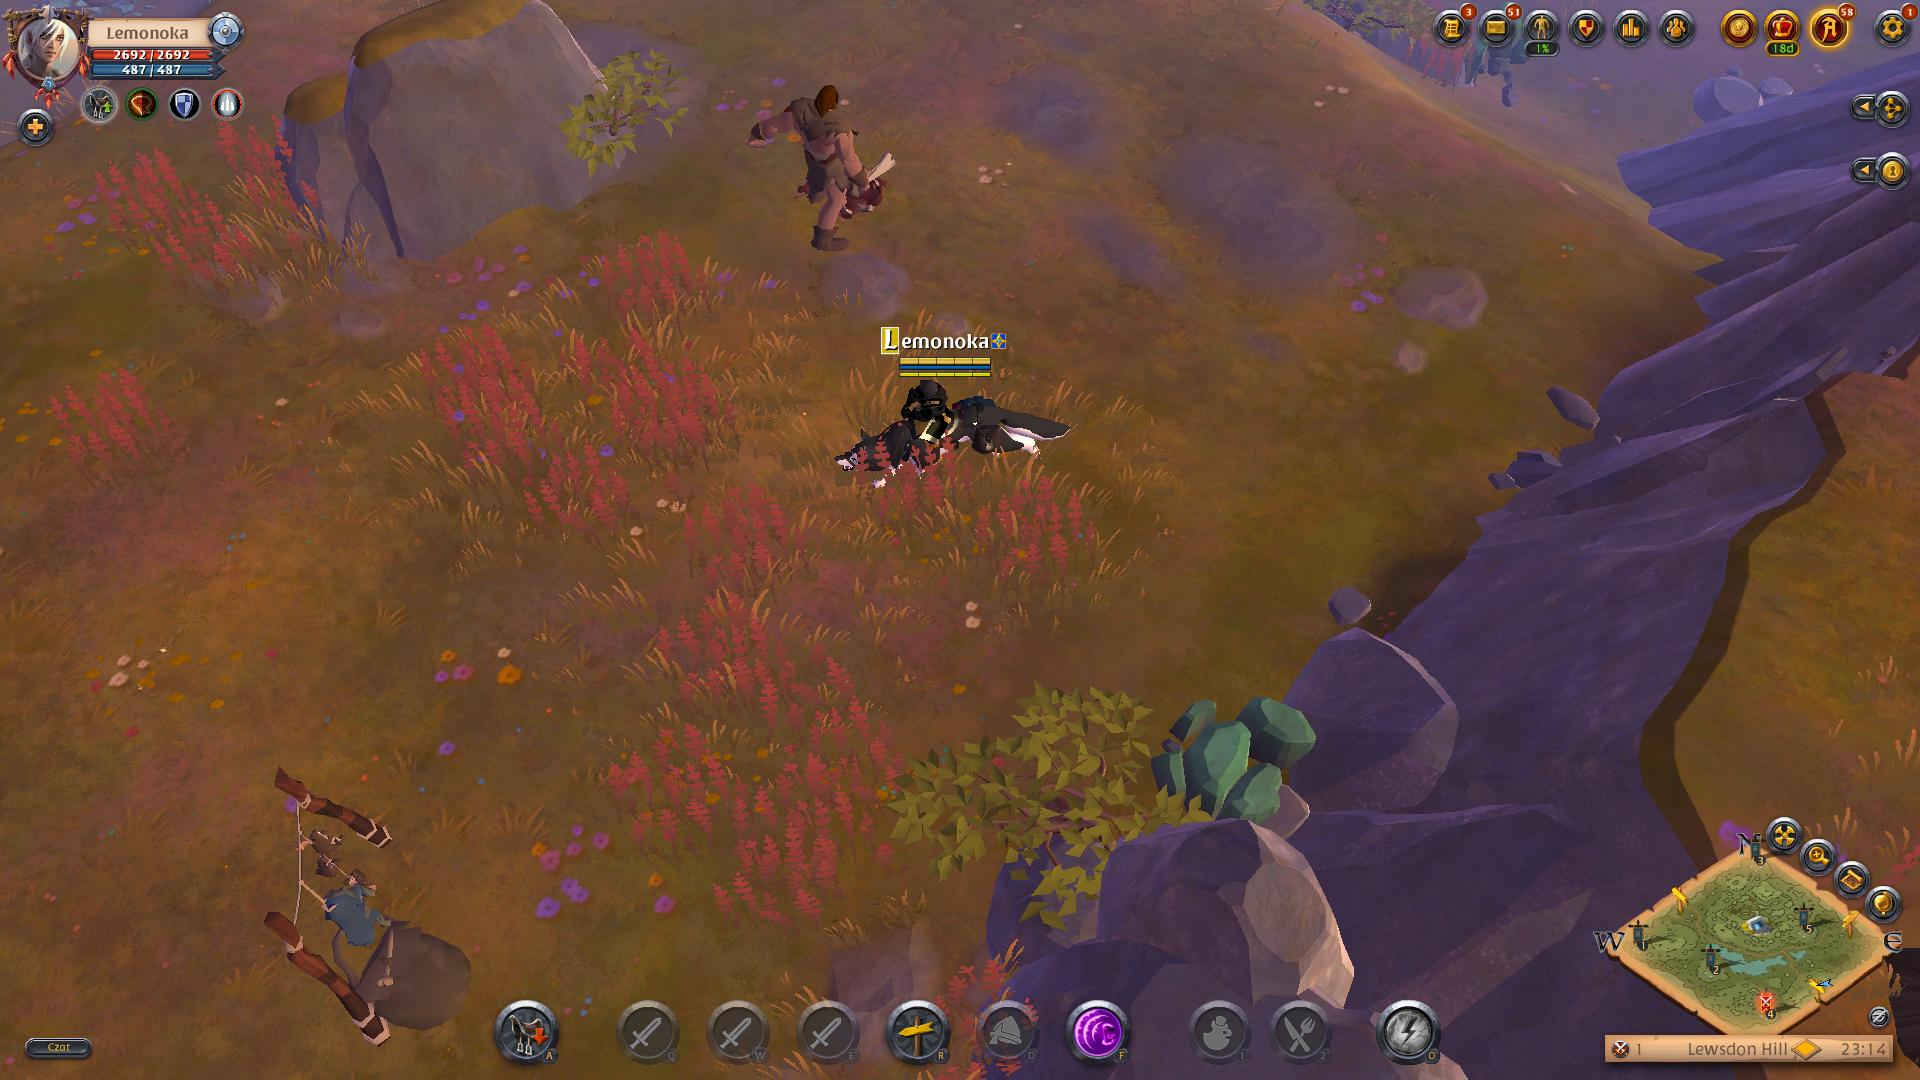rock tier 3: (1137, 688, 1312, 828)
